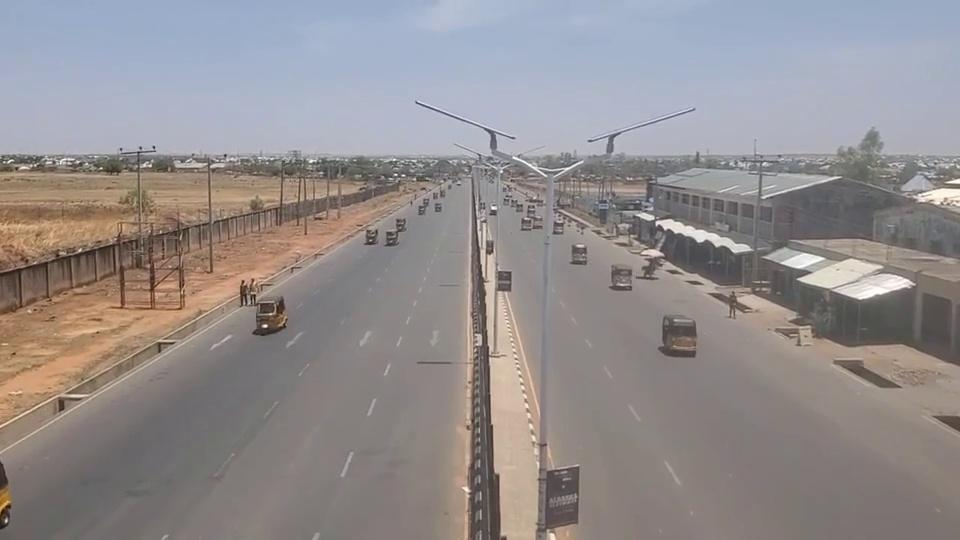keke: (661, 313, 697, 356), (255, 295, 287, 333)
